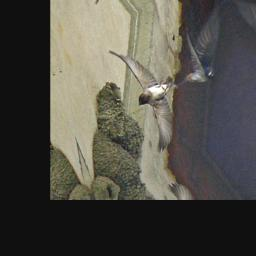Swallow: (107, 26, 195, 165)
